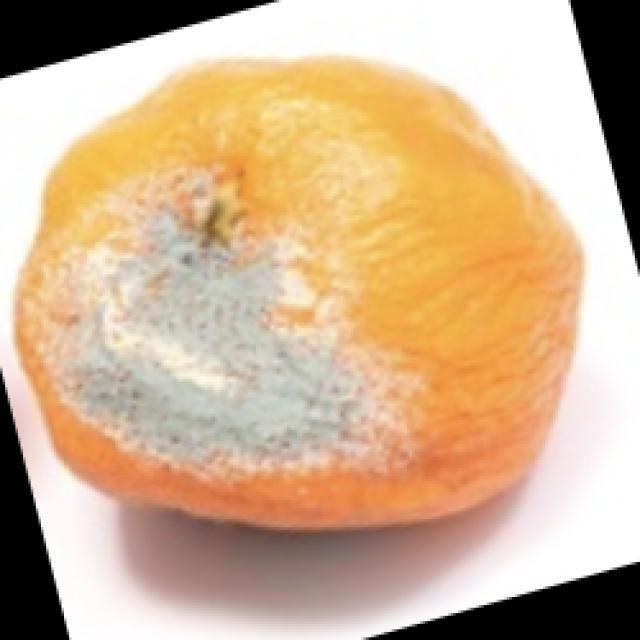sedikit-busuk: (16, 60, 581, 524), (60, 219, 390, 460)
